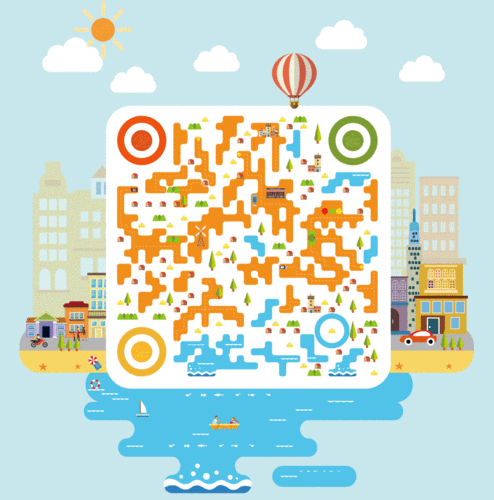QRCode: (109, 113, 389, 389)
